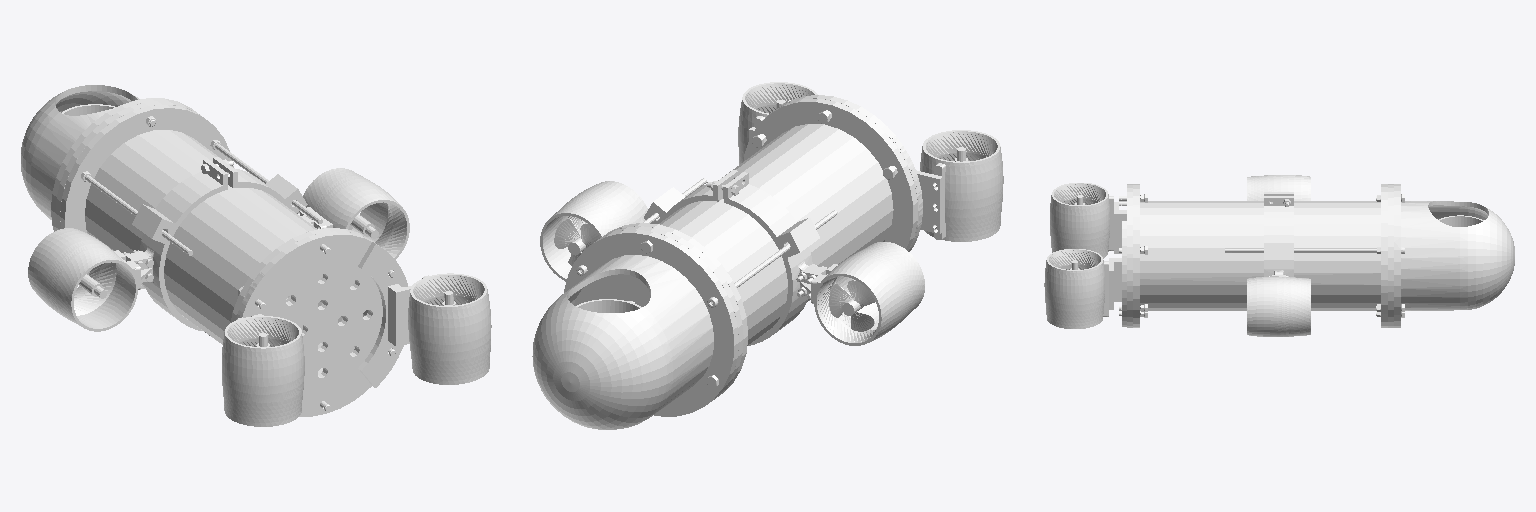
URDF robot description (simulatedrobot):
<?xml version="1.0" encoding="utf-8"?>
<!-- This URDF was automatically created by SolidWorks to URDF Exporter! Originally created by Stephen Brawner (brawner@gmail.com) 
     Commit Version: 1.6.0-4-g7f85cfe  Build Version: 1.6.7995.38578
     For more information, please see http://wiki.ros.org/sw_urdf_exporter -->
<robot
  name="simulatedrobot">
  <link
    name="base_link">
    <inertial>
      <origin
        xyz="-0.015387 -1.2703 0.0053548"
        rpy="0 0 0" />
      <mass
        value="2.1846" />
      <inertia
        ixx="0.011681"
        ixy="-6.5459E-06"
        ixz="-4.3776E-06"
        iyy="0.011662"
        iyz="-3.337E-05"
        izz="0.0065666" />
    </inertial>
    <visual>
      <origin
        xyz="0 0 0"
        rpy="0 0 0" />
      <geometry>
        <mesh
          filename="package://simulatedrobot/meshes/base_link.STL" />
      </geometry>
      <material
        name="">
        <color
          rgba="1 1 1 1" />
      </material>
    </visual>
    <collision>
      <origin
        xyz="0 0 0"
        rpy="0 0 0" />
      <geometry>
        <mesh
          filename="package://simulatedrobot/meshes/base_link.STL" />
      </geometry>
    </collision>
  </link>
  <link
    name="frontwheel">
    <inertial>
      <origin
        xyz="-1.0713E-08 0.0053748 -3.0224E-08"
        rpy="0 0 0" />
      <mass
        value="0.0046375" />
      <inertia
        ixx="1.7181E-06"
        ixy="4.5058E-13"
        ixz="-7.8408E-14"
        iyy="3.0171E-07"
        iyz="1.9638E-12"
        izz="1.7181E-06" />
    </inertial>
    <visual>
      <origin
        xyz="0 0 0"
        rpy="0 0 0" />
      <geometry>
        <mesh
          filename="package://simulatedrobot/meshes/frontwheel.STL" />
      </geometry>
      <material
        name="">
        <color
          rgba="1 1 1 1" />
      </material>
    </visual>
    <collision>
      <origin
        xyz="0 0 0"
        rpy="0 0 0" />
      <geometry>
        <mesh
          filename="package://simulatedrobot/meshes/frontwheel.STL" />
      </geometry>
    </collision>
  </link>
  <joint
    name="frontwheeljoint"
    type="continuous">
    <origin
      xyz="-0.015431 -1.065 0"
      rpy="-1.5708 0 -0.57871" />
    <parent
      link="base_link" />
    <child
      link="frontwheel" />
    <axis
      xyz="0 1 0" />
  </joint>
  <link
    name="rbw">
    <inertial>
      <origin
        xyz="-1.0713E-08 0.0051351 -3.0224E-08"
        rpy="0 0 0" />
      <mass
        value="0.0046375" />
      <inertia
        ixx="1.7181E-06"
        ixy="4.5058E-13"
        ixz="-7.8408E-14"
        iyy="3.0171E-07"
        iyz="1.9638E-12"
        izz="1.7181E-06" />
    </inertial>
    <visual>
      <origin
        xyz="0 0 0"
        rpy="0 0 0" />
      <geometry>
        <mesh
          filename="package://simulatedrobot/meshes/rbw.STL" />
      </geometry>
      <material
        name="">
        <color
          rgba="1 1 1 1" />
      </material>
    </visual>
    <collision>
      <origin
        xyz="0 0 0"
        rpy="0 0 0" />
      <geometry>
        <mesh
          filename="package://simulatedrobot/meshes/rbw.STL" />
      </geometry>
    </collision>
  </link>
  <joint
    name="rbj"
    type="continuous">
    <origin
      xyz="-0.10685 -1.514 0"
      rpy="-1.5708 0 2.5629" />
    <parent
      link="base_link" />
    <child
      link="rbw" />
    <axis
      xyz="0 1 0" />
  </joint>
  <link
    name="lbw">
    <inertial>
      <origin
        xyz="7.7736E-08 0.0074848 -1.5396E-07"
        rpy="0 0 0" />
      <mass
        value="0.0046375" />
      <inertia
        ixx="1.7181E-06"
        ixy="-5.9633E-12"
        ixz="-1.63E-12"
        iyy="3.0171E-07"
        iyz="9.0528E-12"
        izz="1.7181E-06" />
    </inertial>
    <visual>
      <origin
        xyz="0 0 0"
        rpy="0 0 0" />
      <geometry>
        <mesh
          filename="package://simulatedrobot/meshes/lbw.STL" />
      </geometry>
      <material
        name="">
        <color
          rgba="1 1 1 1" />
      </material>
    </visual>
    <collision>
      <origin
        xyz="0 0 0"
        rpy="0 0 0" />
      <geometry>
        <mesh
          filename="package://simulatedrobot/meshes/lbw.STL" />
      </geometry>
    </collision>
  </link>
  <joint
    name="lbj"
    type="continuous">
    <origin
      xyz="0.076668 -1.52 0.0023601"
      rpy="-1.5876 0.025813 2.5657" />
    <parent
      link="base_link" />
    <child
      link="lbw" />
    <axis
      xyz="0 1 0" />
  </joint>
  <link
    name="lfw">
    <inertial>
      <origin
        xyz="3.366E-08 -0.027425 1.7595E-08"
        rpy="0 0 0" />
      <mass
        value="0.0046375" />
      <inertia
        ixx="1.7181E-06"
        ixy="-1.974E-12"
        ixz="-1.955E-13"
        iyy="3.0171E-07"
        iyz="-1.3411E-12"
        izz="1.7181E-06" />
    </inertial>
    <visual>
      <origin
        xyz="0 0 0"
        rpy="0 0 0" />
      <geometry>
        <mesh
          filename="package://simulatedrobot/meshes/lfw.STL" />
      </geometry>
      <material
        name="">
        <color
          rgba="1 1 1 1" />
      </material>
    </visual>
    <collision>
      <origin
        xyz="0 0 0"
        rpy="0 0 0" />
      <geometry>
        <mesh
          filename="package://simulatedrobot/meshes/lfw.STL" />
      </geometry>
    </collision>
  </link>
  <joint
    name="lfj"
    type="continuous">
    <origin
      xyz="0.12044 -1.2421 0.0014413"
      rpy="0 -0.39309 0" />
    <parent
      link="base_link" />
    <child
      link="lfw" />
    <axis
      xyz="0 1 0" />
  </joint>
  <link
    name="rfw">
    <inertial>
      <origin
        xyz="3.366E-08 -0.027425 1.7595E-08"
        rpy="0 0 0" />
      <mass
        value="0.0046375" />
      <inertia
        ixx="1.7181E-06"
        ixy="-1.974E-12"
        ixz="-1.955E-13"
        iyy="3.0171E-07"
        iyz="-1.3411E-12"
        izz="1.7181E-06" />
    </inertial>
    <visual>
      <origin
        xyz="0 0 0"
        rpy="0 0 0" />
      <geometry>
        <mesh
          filename="package://simulatedrobot/meshes/rfw.STL" />
      </geometry>
      <material
        name="">
        <color
          rgba="1 1 1 1" />
      </material>
    </visual>
    <collision>
      <origin
        xyz="0 0 0"
        rpy="0 0 0" />
      <geometry>
        <mesh
          filename="package://simulatedrobot/meshes/rfw.STL" />
      </geometry>
    </collision>
  </link>
  <joint
    name="rfj"
    type="continuous">
    <origin
      xyz="-0.1513 -1.2421 0.0074378"
      rpy="0 0 0" />
    <parent
      link="base_link" />
    <child
      link="rfw" />
    <axis
      xyz="0 1 0" />
  </joint>
</robot>

--- What the picture shows (computed from the rendered views, not written in the file) ---
3 views of the same robot in one strip: view 1: azimuth 30°, elevation 25°; view 2: azimuth 150°, elevation 25°; view 3: azimuth 270°, elevation 25° (orthographic).
Robot: simulatedrobot — 6 links, 5 joints (5 continuous); root link base_link; default pose: all joints at 0.
Visible links, largest first — view 1: base_link; view 2: base_link, rfw, lfw; view 3: base_link.
Link boxes in pixels (left/top/right/bottom): base_link: left=21, top=85, right=491, bottom=426; base_link: left=532, top=82, right=1003, bottom=429; rfw: left=829, top=280, right=874, bottom=331; lfw: left=554, top=219, right=599, bottom=265; base_link: left=1044, top=175, right=1514, bottom=336.
Bounding box of the posed robot: 0.3438 × 0.556 × 0.17 m (x, y, z).
Meshes: 6 distinct files referenced, 6 mesh visuals loaded (6 binary STL).
